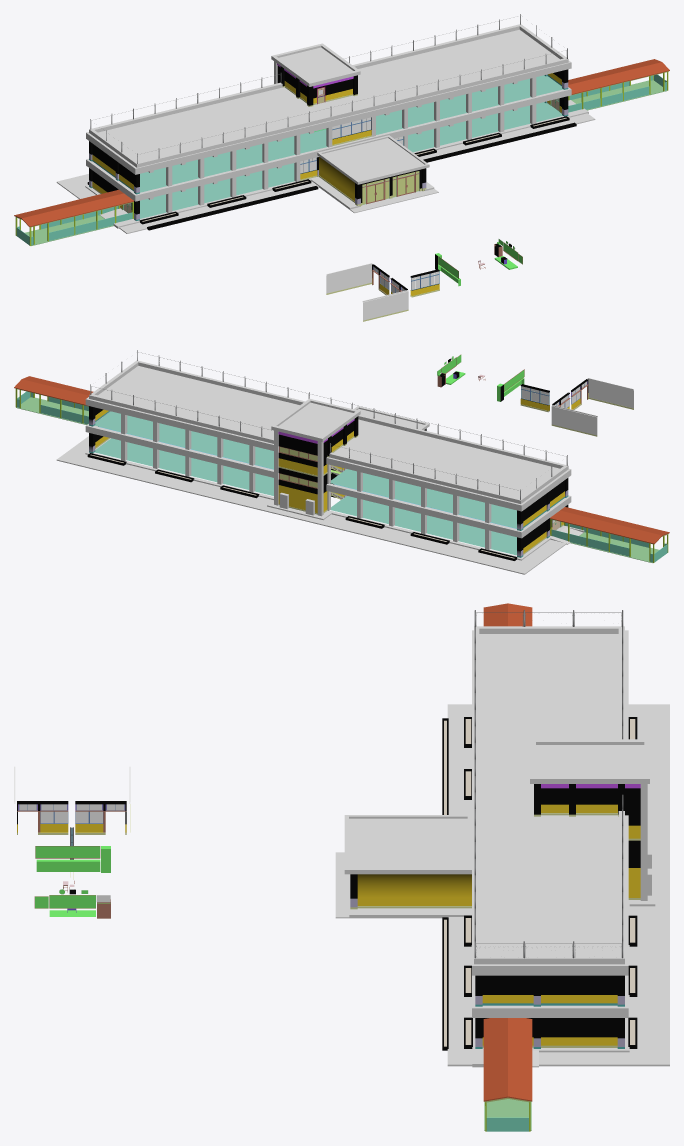
Rendered from kira sekolah.fbx.
3 views of the same model, one above another, from view 1: azimuth 30°, elevation 25°; view 2: azimuth 150°, elevation 25°; view 3: azimuth 270°, elevation 25° (orthographic). The views are drawn at different scales.
Parts seen in each view (by area): view 1: E_SC_SUPPORT_00, SC_COR_FLOOR, E_SC_PROPS_01, SC_EN_WALL_00, E_SC_POT_00, E_SC_SUPPORT_01, Frame Kelas.001, SC_STR_Wall_RT, SC_LT_FENCE, GL_SC_CORRIDOR_WALL_GLASS.001, Env Kelas, SC_EN_GATE.057; view 2: E_SC_SUPPORT_00, SC_COR_FLOOR, E_SC_SUPPORT_01, E_SC_PROPS_01, SC_EN_GATE.057, Frame Kelas.001, SC_EN_WALL_00, E_SC_POT_00, SC_LT_FENCE, Env Kelas, SC_STR_Wall_RT, Ding Jendela main (+1 smaller); view 3: E_SC_SUPPORT_00, E_SC_SUPPORT_01, SC_EN_WALL_00, E_SC_PROPS_01, E_SC_POT_00, Env Kelas, SC_STR_Wall_RT, Frame Kelas.001, SC_LT_FENCE, SC_EN_GATE.057, GL_SC_CORRIDOR_WALL_GLASS.004.
Part boxes in pixels (left/top/right/bottom): E_SC_SUPPORT_00: left=85, top=24, right=588, bottom=228; SC_COR_FLOOR: left=140, top=75, right=563, bottom=218; E_SC_PROPS_01: left=14, top=59, right=669, bottom=245; SC_EN_WALL_00: left=89, top=69, right=568, bottom=220; E_SC_POT_00: left=87, top=116, right=576, bottom=230; E_SC_SUPPORT_01: left=56, top=113, right=595, bottom=233; Frame Kelas.001: left=326, top=263, right=408, bottom=321; SC_STR_Wall_RT: left=277, top=63, right=357, bottom=106; SC_LT_FENCE: left=90, top=14, right=567, bottom=163; GL_SC_CORRIDOR_WALL_GLASS.001: left=300, top=117, right=419, bottom=204; Env Kelas: left=435, top=239, right=522, bottom=286; SC_EN_GATE.057: left=277, top=66, right=403, bottom=180; E_SC_SUPPORT_00: left=85, top=360, right=584, bottom=560; SC_COR_FLOOR: left=94, top=411, right=516, bottom=555; E_SC_SUPPORT_01: left=56, top=436, right=566, bottom=574; E_SC_PROPS_01: left=14, top=376, right=669, bottom=562; SC_EN_GATE.057: left=278, top=434, right=327, bottom=514; Frame Kelas.001: left=551, top=378, right=633, bottom=436; SC_EN_WALL_00: left=89, top=406, right=568, bottom=557; E_SC_POT_00: left=87, top=453, right=517, bottom=560; SC_LT_FENCE: left=90, top=350, right=567, bottom=499; Env Kelas: left=437, top=354, right=524, bottom=401; SC_STR_Wall_RT: left=278, top=416, right=358, bottom=457; Ding Jendela main: left=520, top=384, right=549, bottom=412; E_SC_SUPPORT_00: left=335, top=626, right=655, bottom=1067; E_SC_SUPPORT_01: left=447, top=704, right=669, bottom=1066; SC_EN_WALL_00: left=350, top=874, right=624, bottom=1048; E_SC_PROPS_01: left=483, top=603, right=532, bottom=1131; E_SC_POT_00: left=442, top=717, right=637, bottom=1050; Env Kelas: left=34, top=846, right=110, bottom=918; SC_STR_Wall_RT: left=534, top=784, right=640, bottom=816; Frame Kelas.001: left=14, top=766, right=130, bottom=834; SC_LT_FENCE: left=474, top=610, right=623, bottom=958; SC_EN_GATE.057: left=625, top=788, right=640, bottom=899; GL_SC_CORRIDOR_WALL_GLASS.004: left=19, top=804, right=124, bottom=823.
Size of the model in its own units: 9996 by 1440 by 5619.
